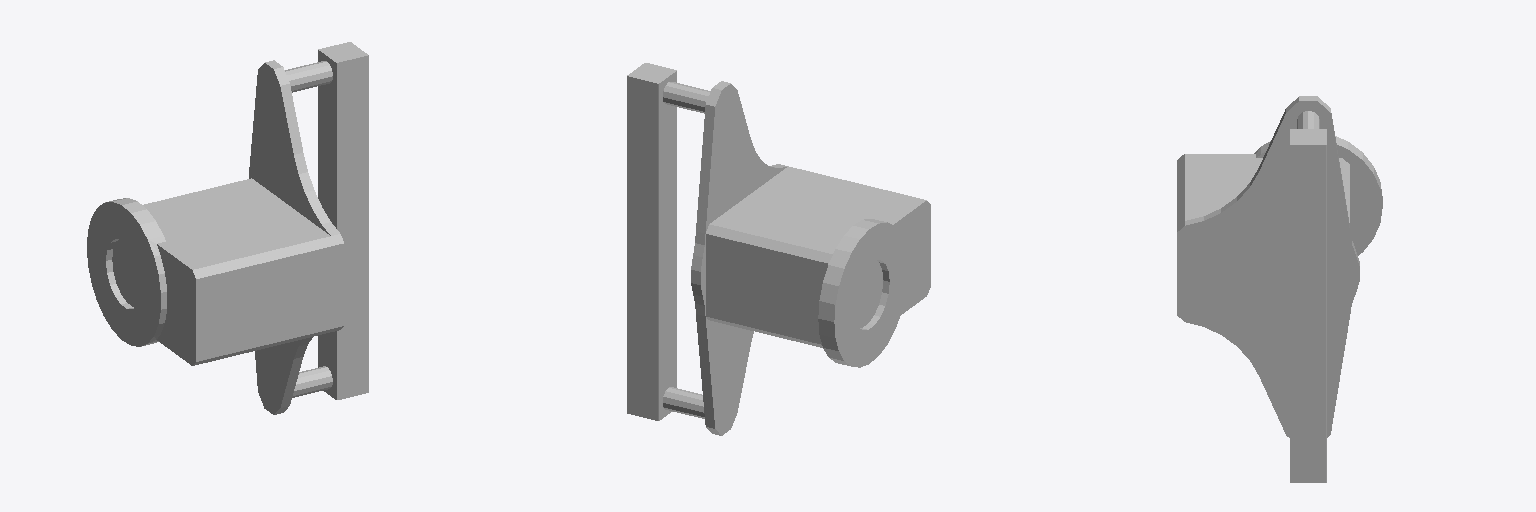
The model's file is gripper_link.obj.
3 views of the same model, side by side, from view 1: azimuth 30°, elevation 25°; view 2: azimuth 150°, elevation 25°; view 3: azimuth 270°, elevation 25° (orthographic).
Bounding box in the file's own units: 0.073 × 0.1025 × 0.0553.